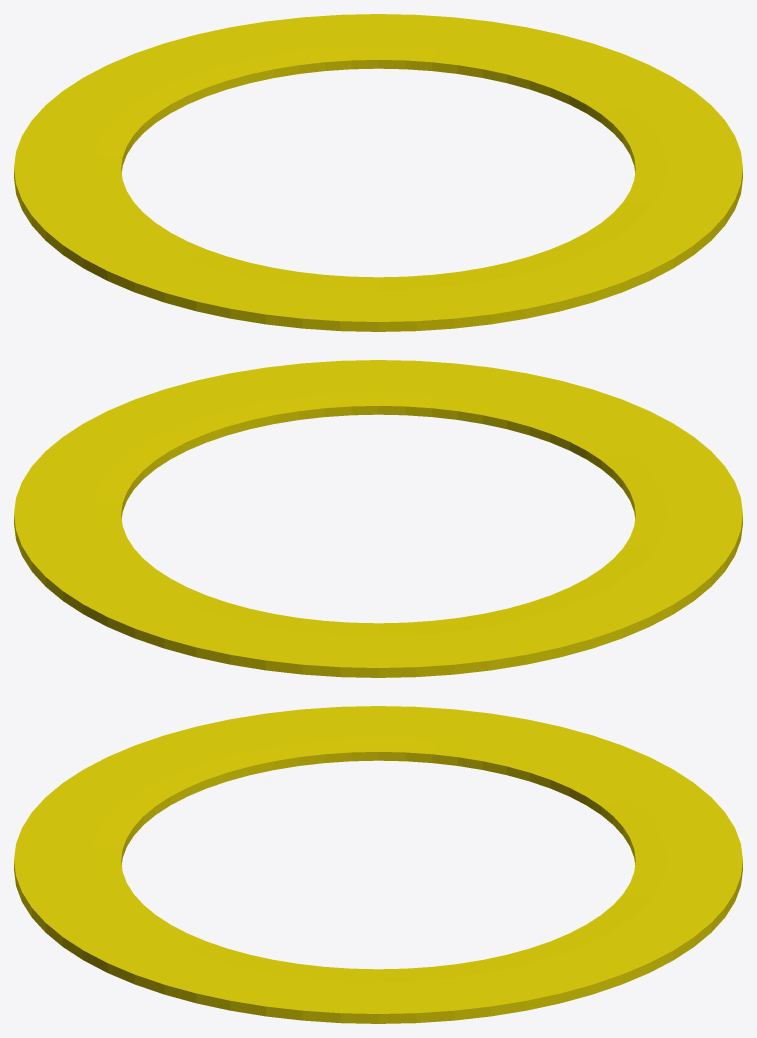
The model's file is MovePlate.fbx.
3 views of the same model, one above another, from view 1: azimuth 30°, elevation 25°; view 2: azimuth 150°, elevation 25°; view 3: azimuth 270°, elevation 25° (orthographic).
Parts seen in each view (by area): view 1: Circle; view 2: Circle; view 3: Circle.
Boxes of the visible parts, x1=… form: Circle: x1=14, y1=14, x2=742, y2=331; Circle: x1=14, y1=360, x2=742, y2=677; Circle: x1=14, y1=706, x2=742, y2=1023.
Bounding box in the file's own units: 20 × 0.3 × 20.
